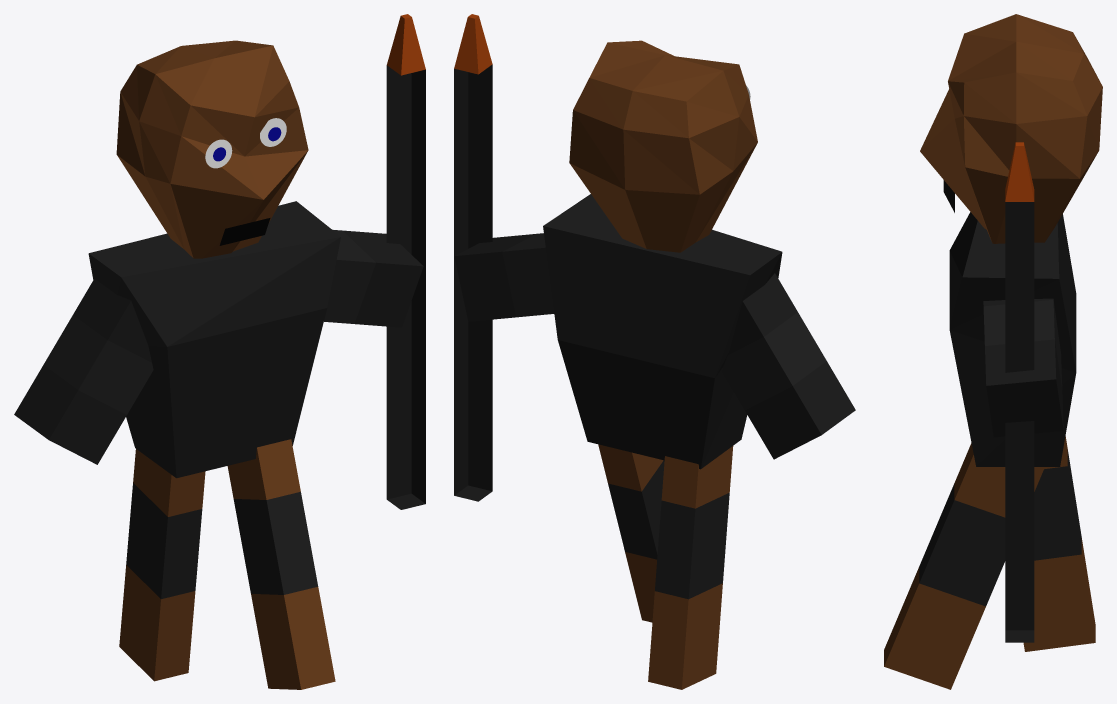
The model's file is spearman2.obj.
3 renders of one model, left to right at view 1: azimuth 30°, elevation 25°; view 2: azimuth 150°, elevation 25°; view 3: azimuth 270°, elevation 25°, orthographic. The views are drawn at different scales.
Parts seen in each view (by area): view 1: Cube.001, Cube, Cube.007, Cube.005, Cube.004, Cube.003, Cube.002, Plane; view 2: Cube.001, Cube, Cube.007, Cube.004, Cube.003, Cube.002, Cube.005; view 3: Cube, Cube.005, Cube.001, Cube.007, Cube.004, Cube.002.
Part boxes in pixels (<box>): Cube.001: <box>88,201,340,478</box>; Cube: <box>116,40,308,258</box>; Cube.007: <box>386,14,425,509</box>; Cube.005: <box>227,439,335,689</box>; Cube.004: <box>119,449,205,681</box>; Cube.003: <box>14,278,153,464</box>; Cube.002: <box>324,229,423,327</box>; Plane: <box>219,218,270,245</box>; Cube.001: <box>543,194,782,469</box>; Cube: <box>569,40,757,252</box>; Cube.007: <box>454,14,492,501</box>; Cube.004: <box>648,446,733,689</box>; Cube.003: <box>722,273,855,459</box>; Cube.002: <box>454,233,554,321</box>; Cube.005: <box>598,444,664,622</box>; Cube: <box>920,14,1102,243</box>; Cube.005: <box>884,443,1044,689</box>; Cube.001: <box>949,212,1076,466</box>; Cube.007: <box>1005,142,1034,642</box>; Cube.004: <box>1023,436,1095,651</box>; Cube.002: <box>983,298,1063,437</box>.
Bounding box in the file's own units: 3.88 × 5.89 × 1.88.
